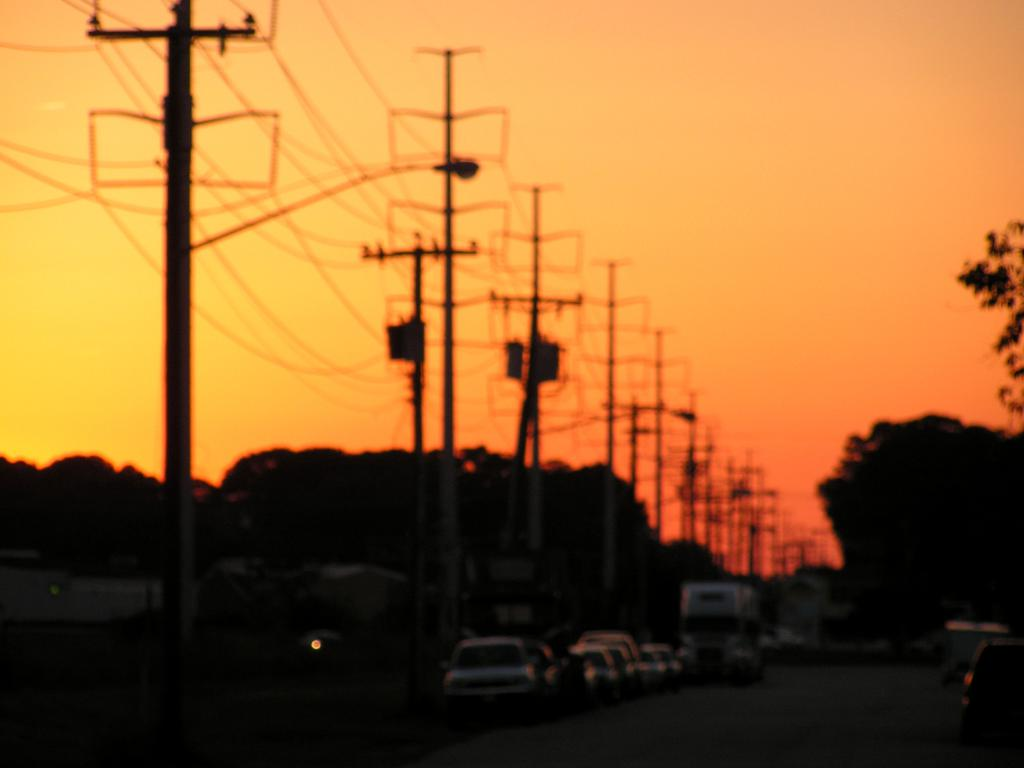Car: (437, 631, 680, 720), (956, 639, 1023, 721)
